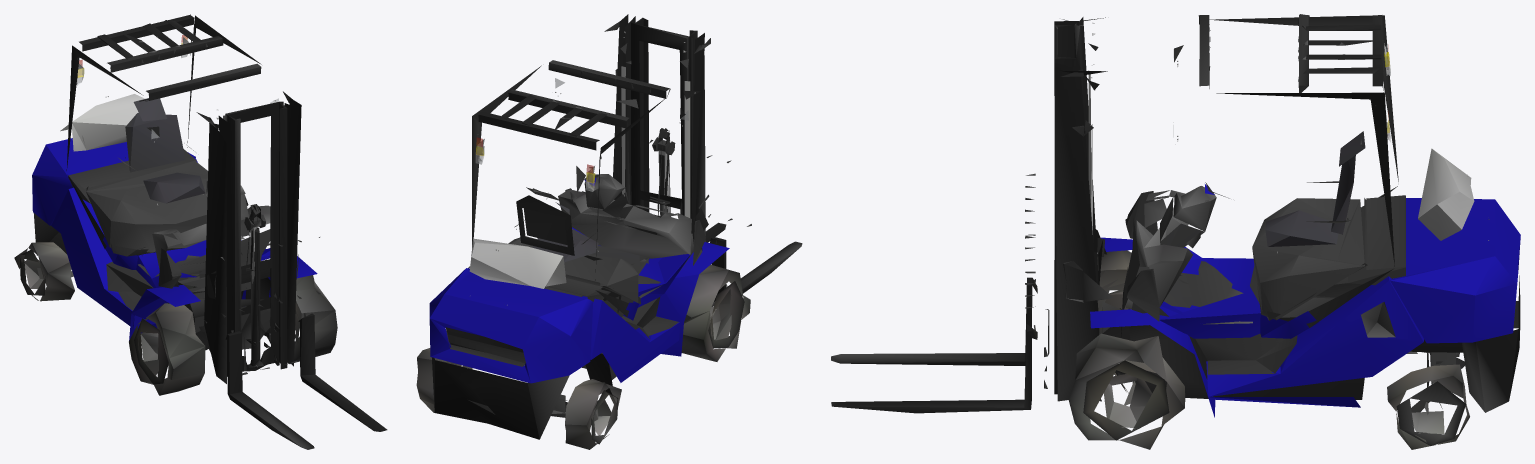
The model's file is forklift-lo.glb.
3 views of the same model, side by side, from view 1: azimuth 30°, elevation 25°; view 2: azimuth 150°, elevation 25°; view 3: azimuth 270°, elevation 25° (orthographic). The views are drawn at different scales.
Visible parts, largest first — view 1: body, mast, forks; view 2: body, mast, forks; view 3: body, forks, mast.
Boxes of the visible parts, x1,y1,x2,y2 form: body: (14,14,337,395); mast: (223,101,287,371); forks: (225,313,387,449); body: (416,14,750,449); mast: (631,17,697,221); forks: (705,222,802,301); body: (1054,14,1520,449); forks: (831,277,1037,413); mast: (1054,23,1080,394).
Bounding box in the file's own units: 1.36 × 2.16 × 3.73.
